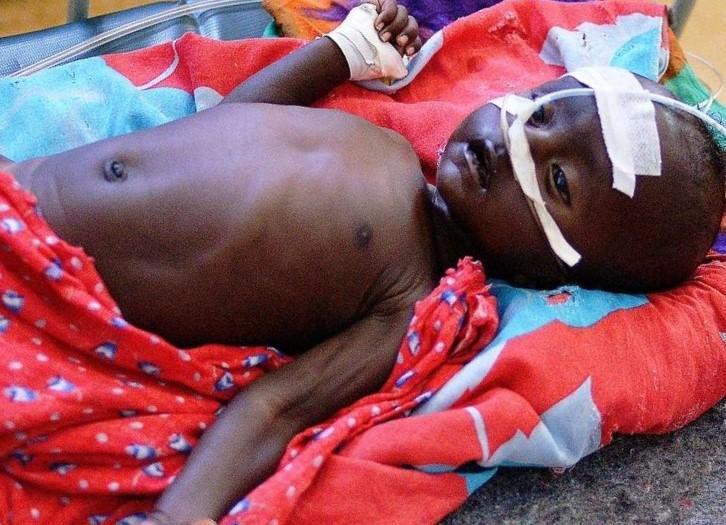Stunting: (433, 63, 726, 334)
